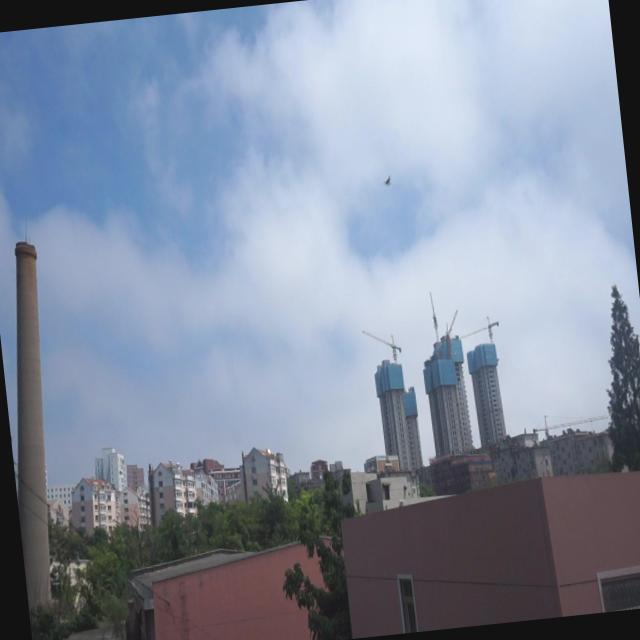drone: (380, 173, 394, 190)
